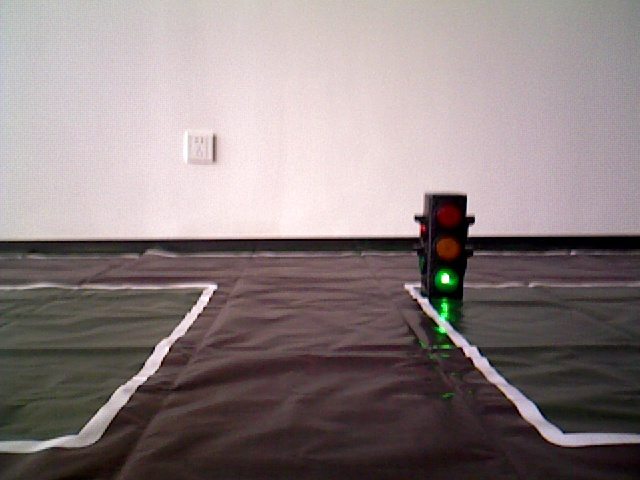green: (423, 196, 462, 291)
